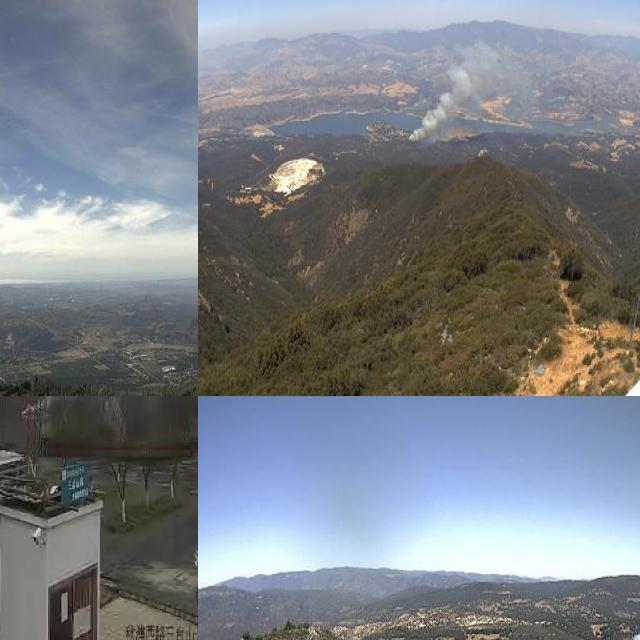smoke: (403, 35, 536, 144)
